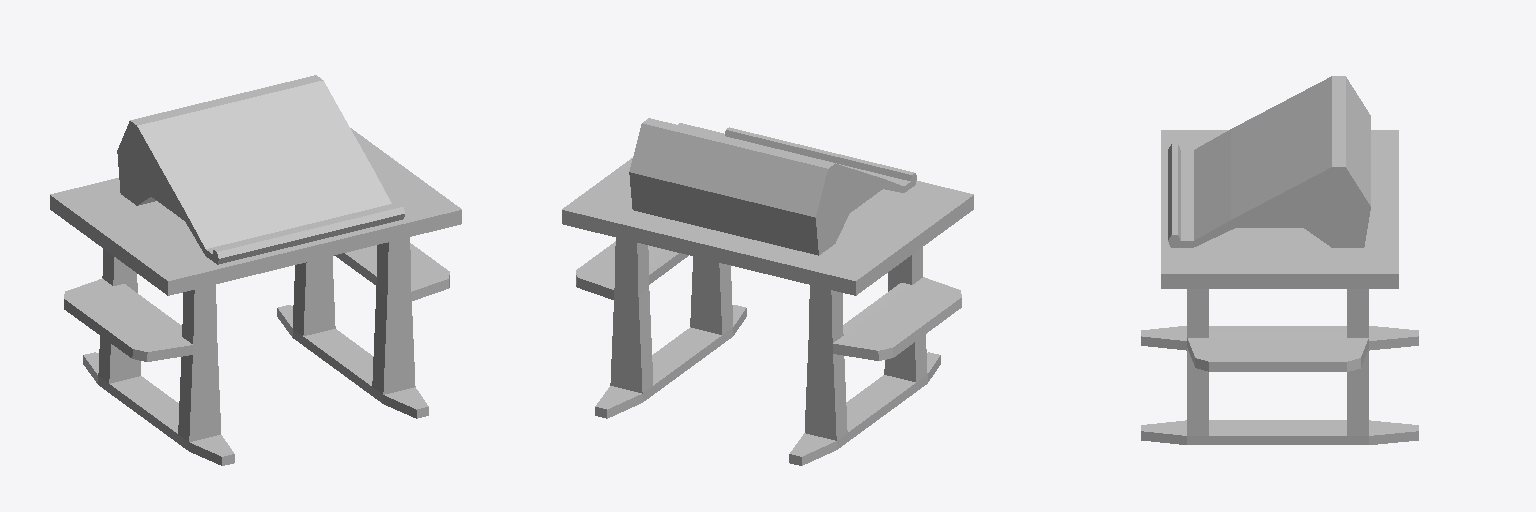
File: Drafting Table.obj
The picture shows the model from 3 angles: view 1: azimuth 30°, elevation 25°; view 2: azimuth 150°, elevation 25°; view 3: azimuth 270°, elevation 25°; orthographic projection.
Parts seen in each view (by area): view 1: Drafting_Table_3; view 2: Drafting_Table_3; view 3: Drafting_Table_3.
Boxes of the visible parts, box(x1,y1,x2,y2) form: Drafting_Table_3: box(50, 75, 461, 465); Drafting_Table_3: box(562, 118, 973, 465); Drafting_Table_3: box(1141, 76, 1418, 444).
Bounding box in the file's own units: 120 × 97.05 × 91.28.